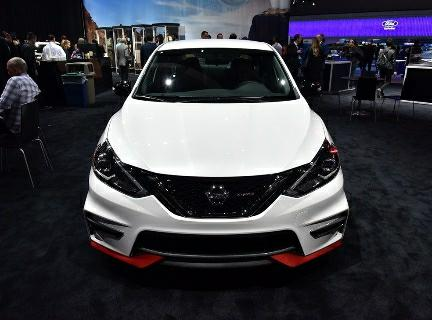car: (77, 30, 357, 276)
